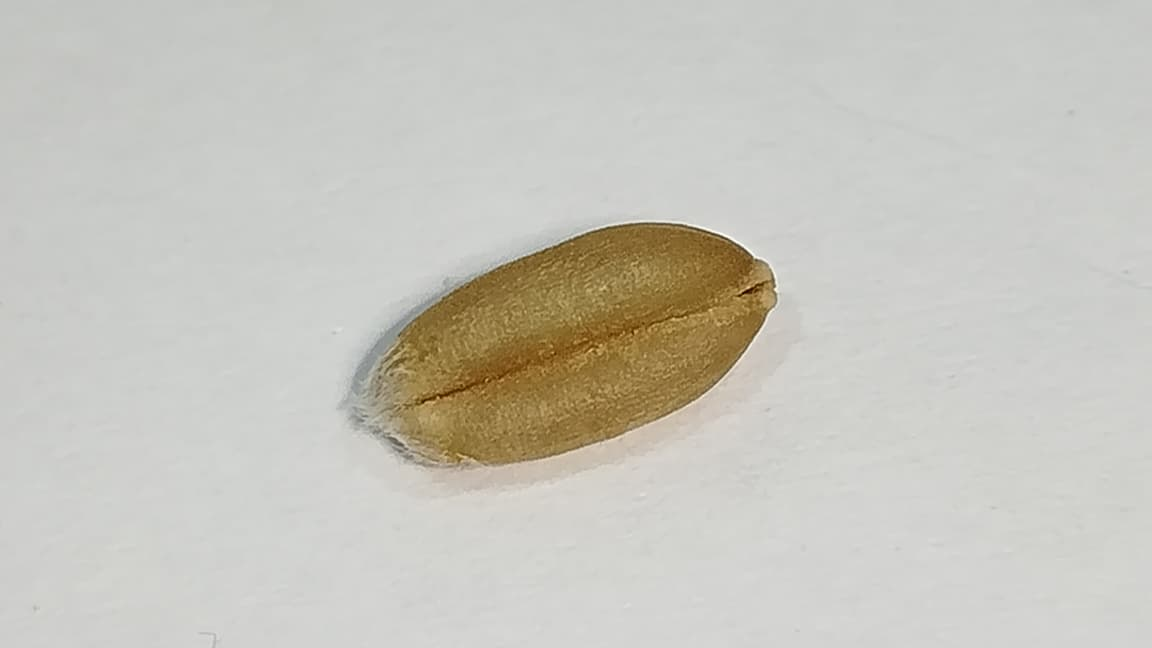healthy: (377, 222, 775, 464)
